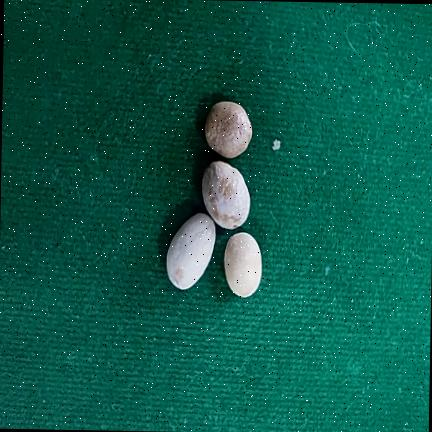immature: (166, 213, 215, 289), (202, 161, 250, 229), (204, 101, 252, 157), (224, 232, 261, 297)
